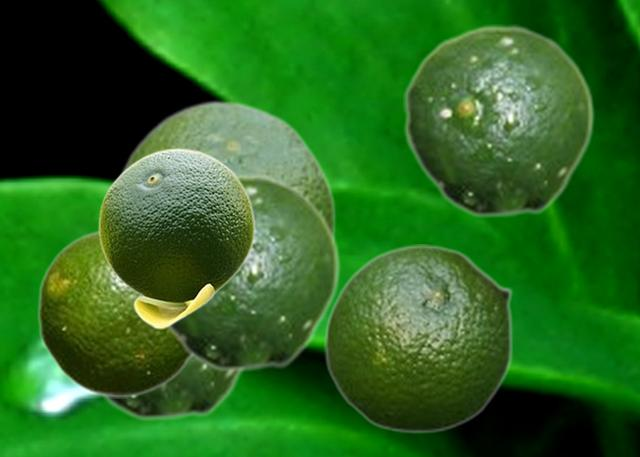calamansi: (403, 24, 594, 218), (324, 244, 513, 433), (164, 173, 340, 372), (114, 98, 336, 234), (98, 148, 254, 328), (36, 226, 191, 397), (99, 360, 247, 421)
